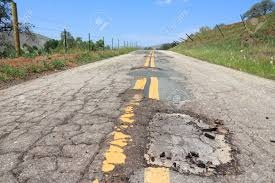pothole: (147, 104, 243, 178), (127, 64, 179, 80)
